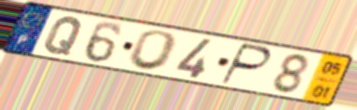4: (173, 36, 214, 81)
6: (83, 21, 124, 65)
8: (271, 53, 312, 95)
O: (125, 29, 181, 73)
P: (217, 42, 274, 87)
Q: (42, 16, 86, 58)
